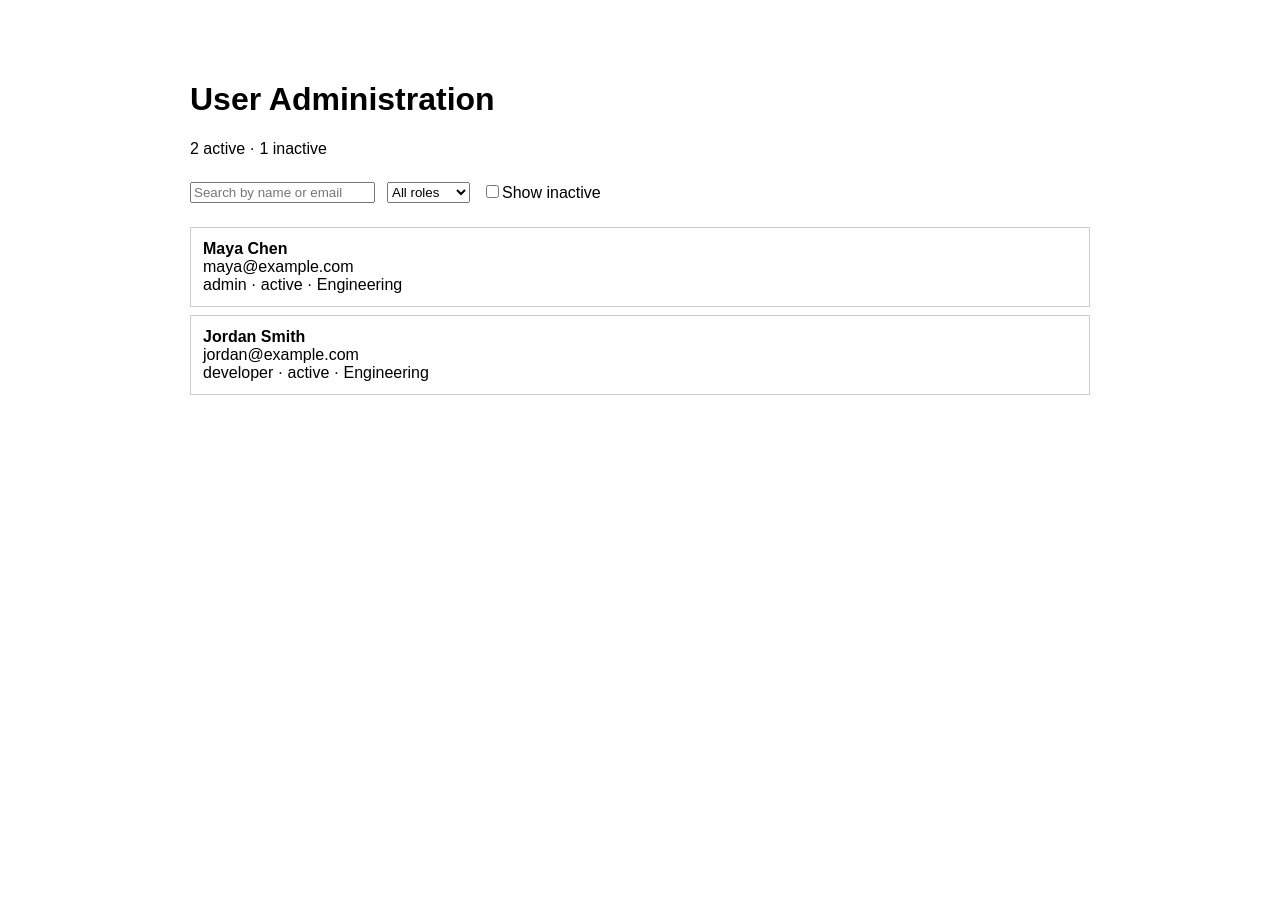
Test case: UserDashboard behavior › opens a user and can edit status
Click the text "Maya Chen" at (245, 248), box [203,240,288,257]
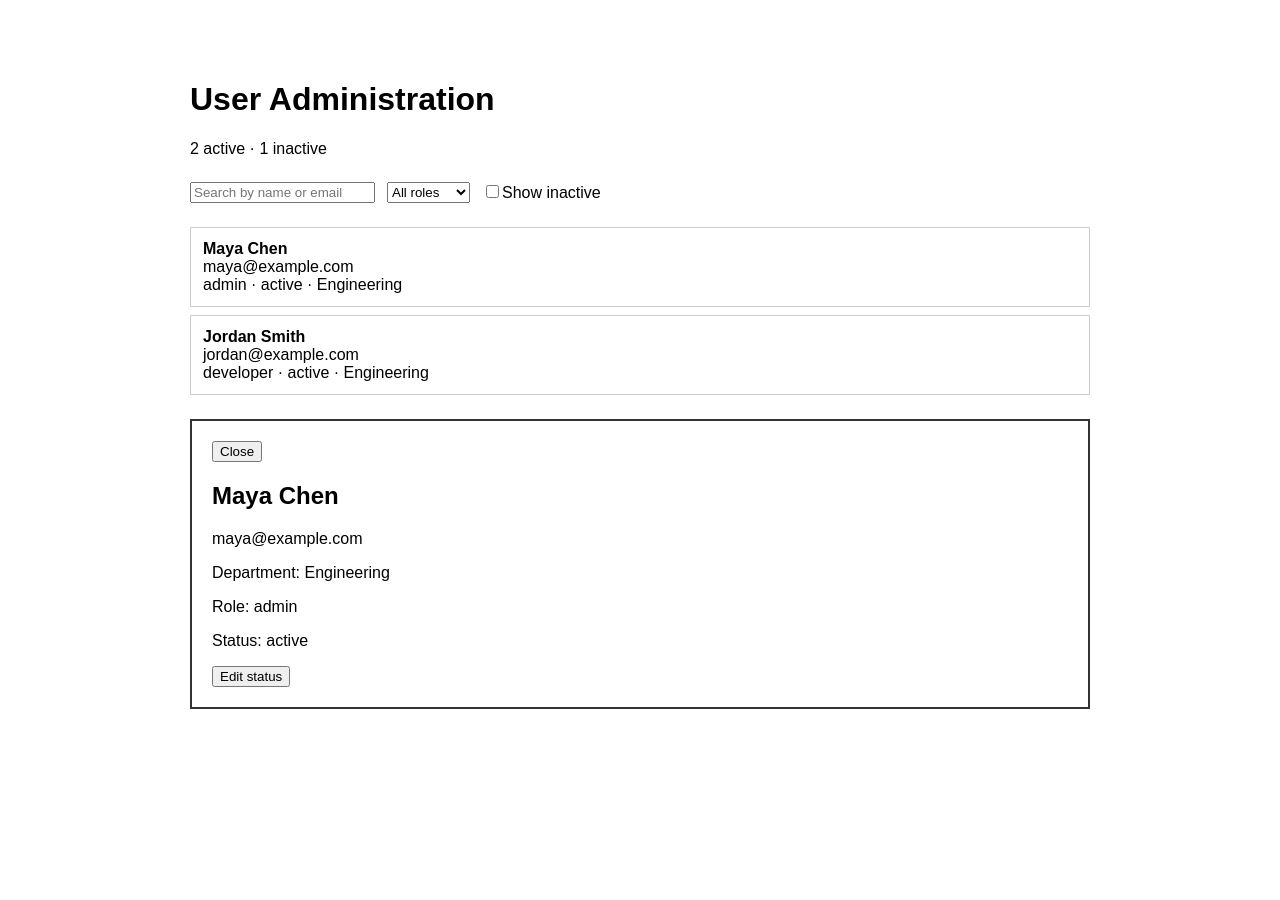
Expected: the dialog is shown, [190,419,1090,709]
Click the button "Edit status" at (251, 676), box [212,666,290,687]
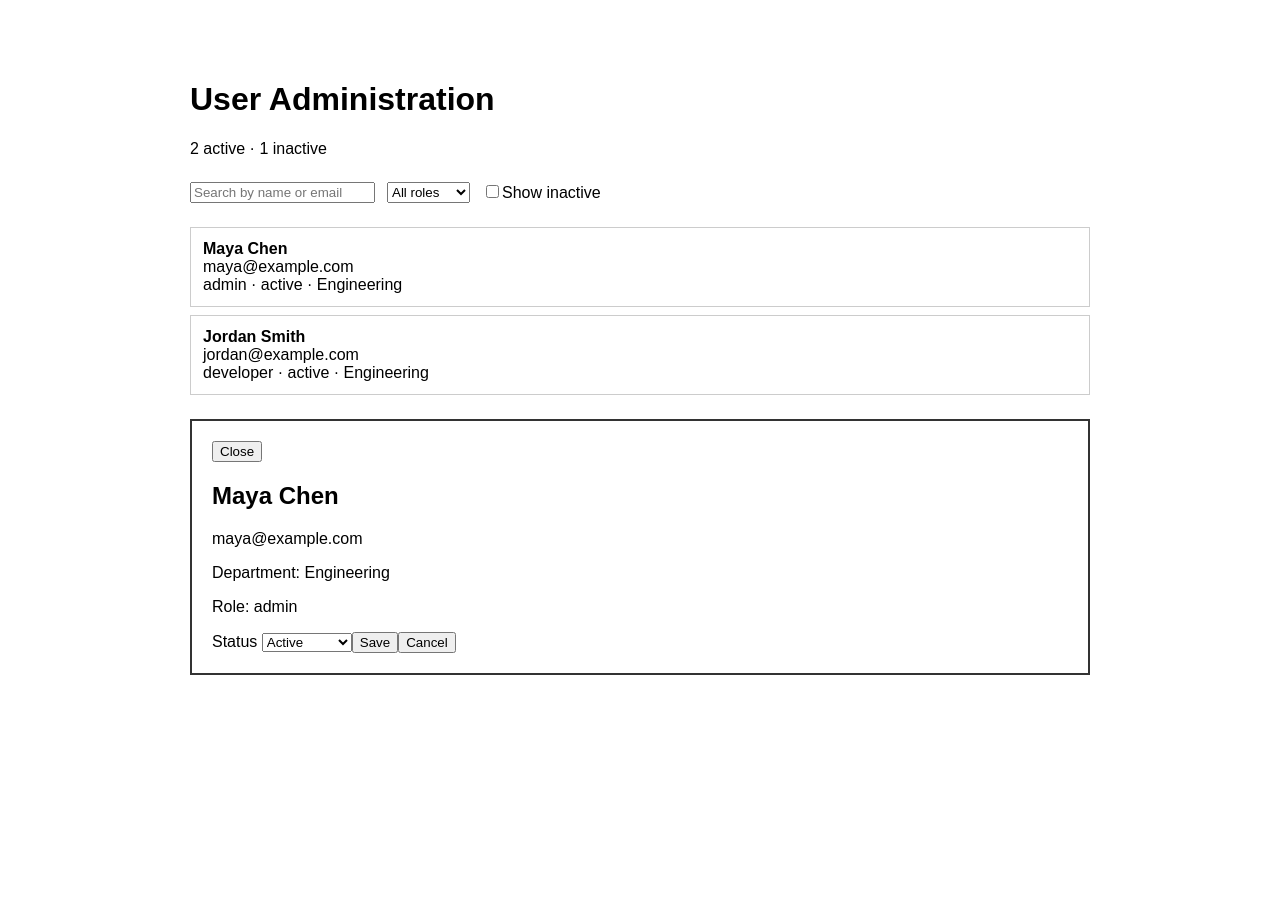
Select "Suspended" in the dropdown labelled "Status" at (307, 642), box [262,633,352,652]
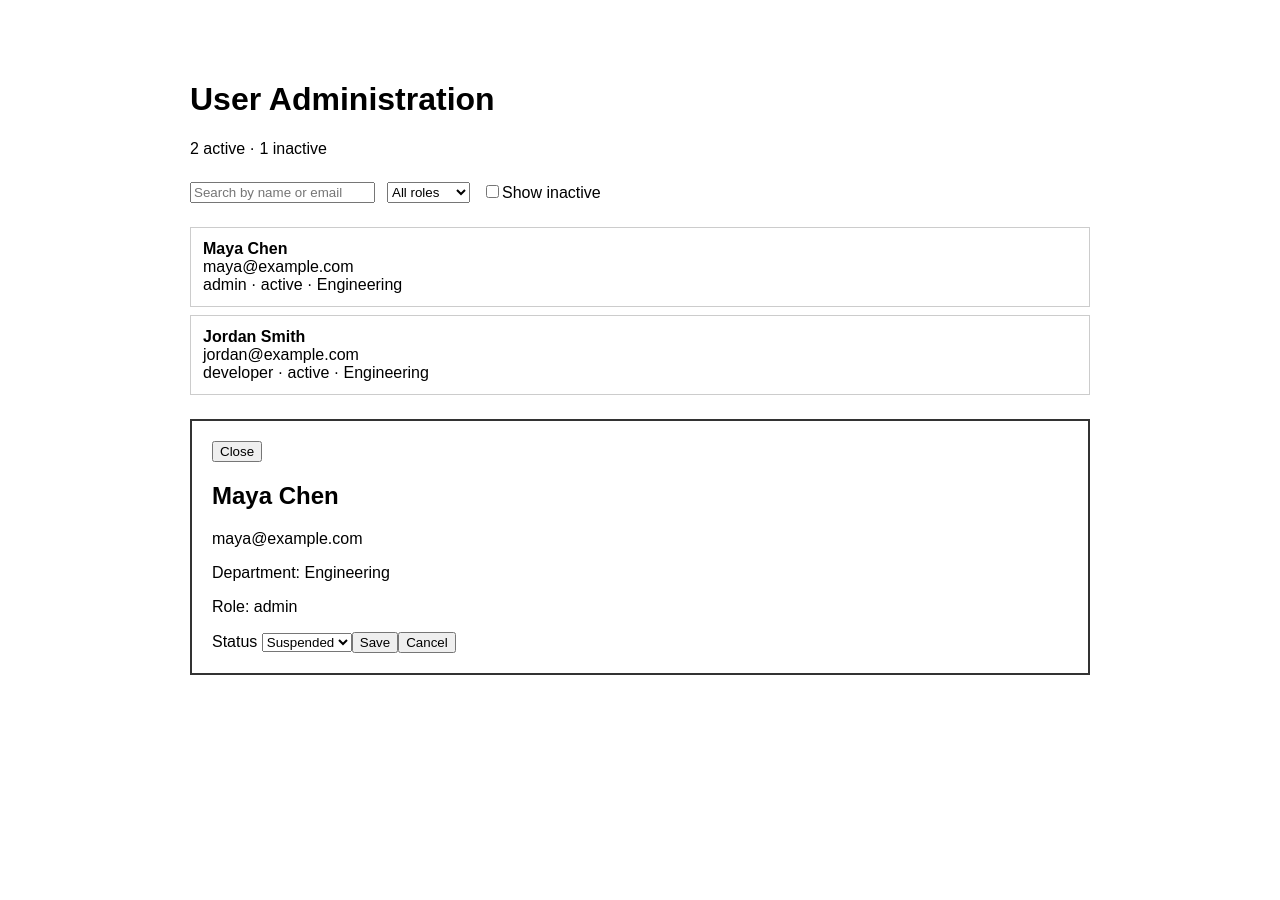
Click the button "Save" at (375, 642), box [352,632,398,653]
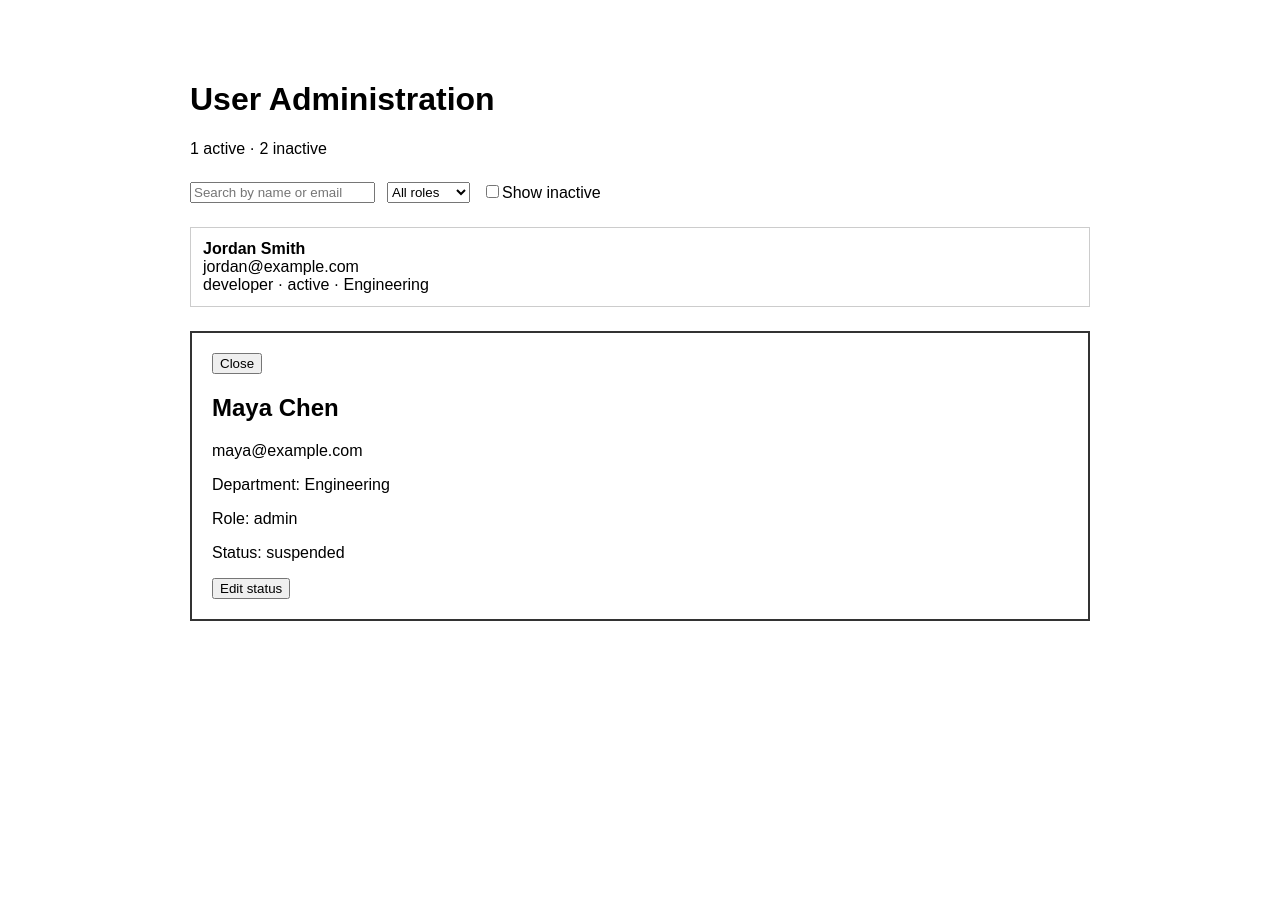
Expected: the text "Status: suspended" is shown, [212,544,344,561]
